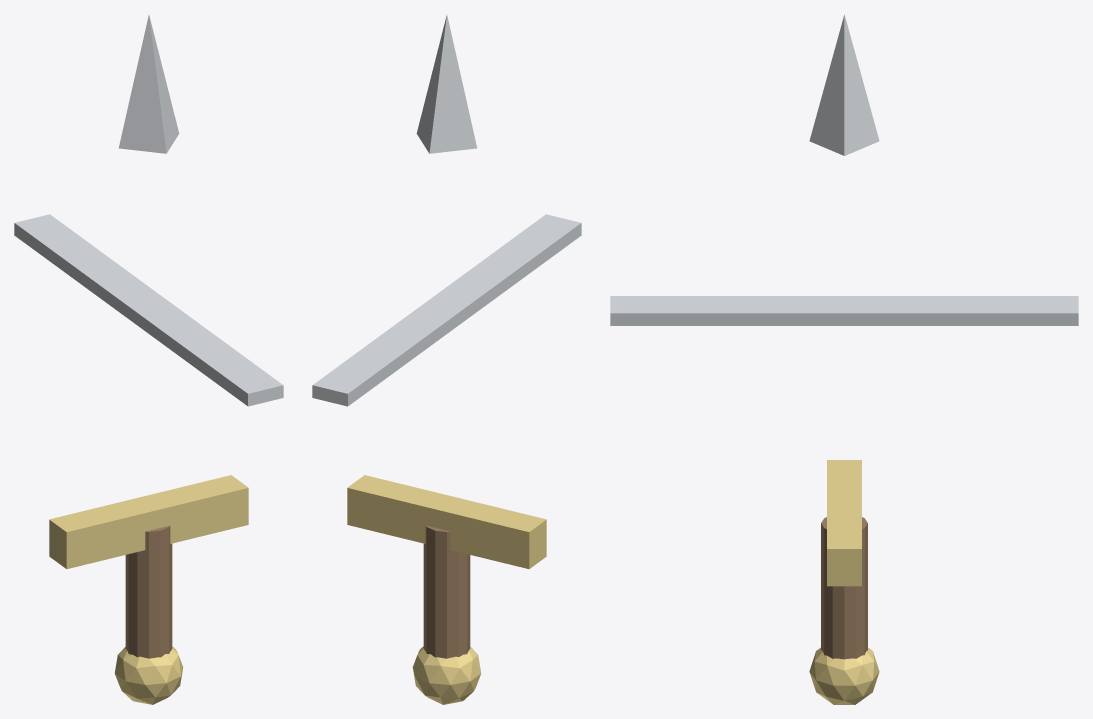
The model's file is wpn_dagger.glb.
3 views of the same model, side by side, from view 1: azimuth 30°, elevation 25°; view 2: azimuth 150°, elevation 25°; view 3: azimuth 270°, elevation 25° (orthographic).
Parts seen in each view (by area): view 1: wpn_dagger; view 2: wpn_dagger; view 3: wpn_dagger.
Boxes of the visible parts, box(x1,y1,x2,y2) form: wpn_dagger: box(14, 15, 283, 704); wpn_dagger: box(312, 15, 581, 704); wpn_dagger: box(610, 14, 1078, 704).
Size of the model in its own units: 0.18 by 0.65 by 0.4.
